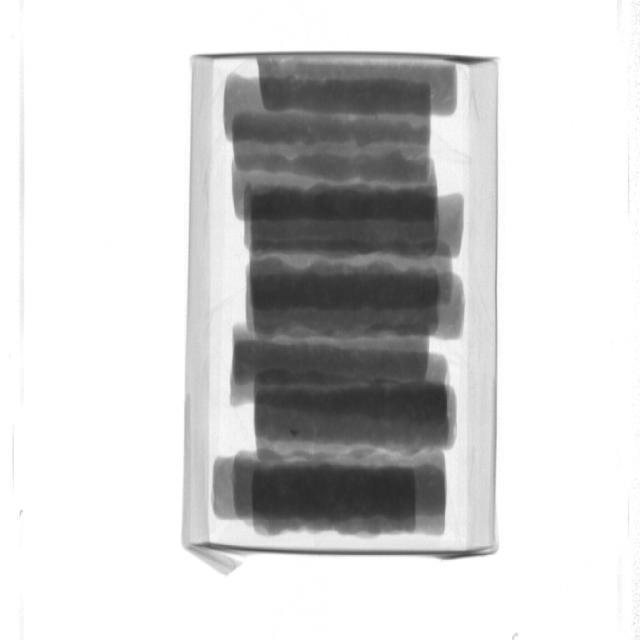ym: (291, 428, 299, 435)
